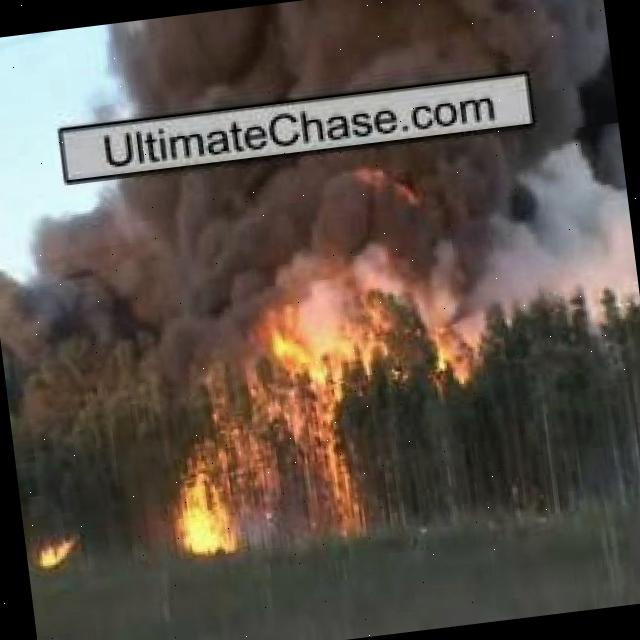fire: (267, 310, 375, 548), (162, 446, 245, 566), (406, 274, 483, 376), (31, 532, 80, 572)
